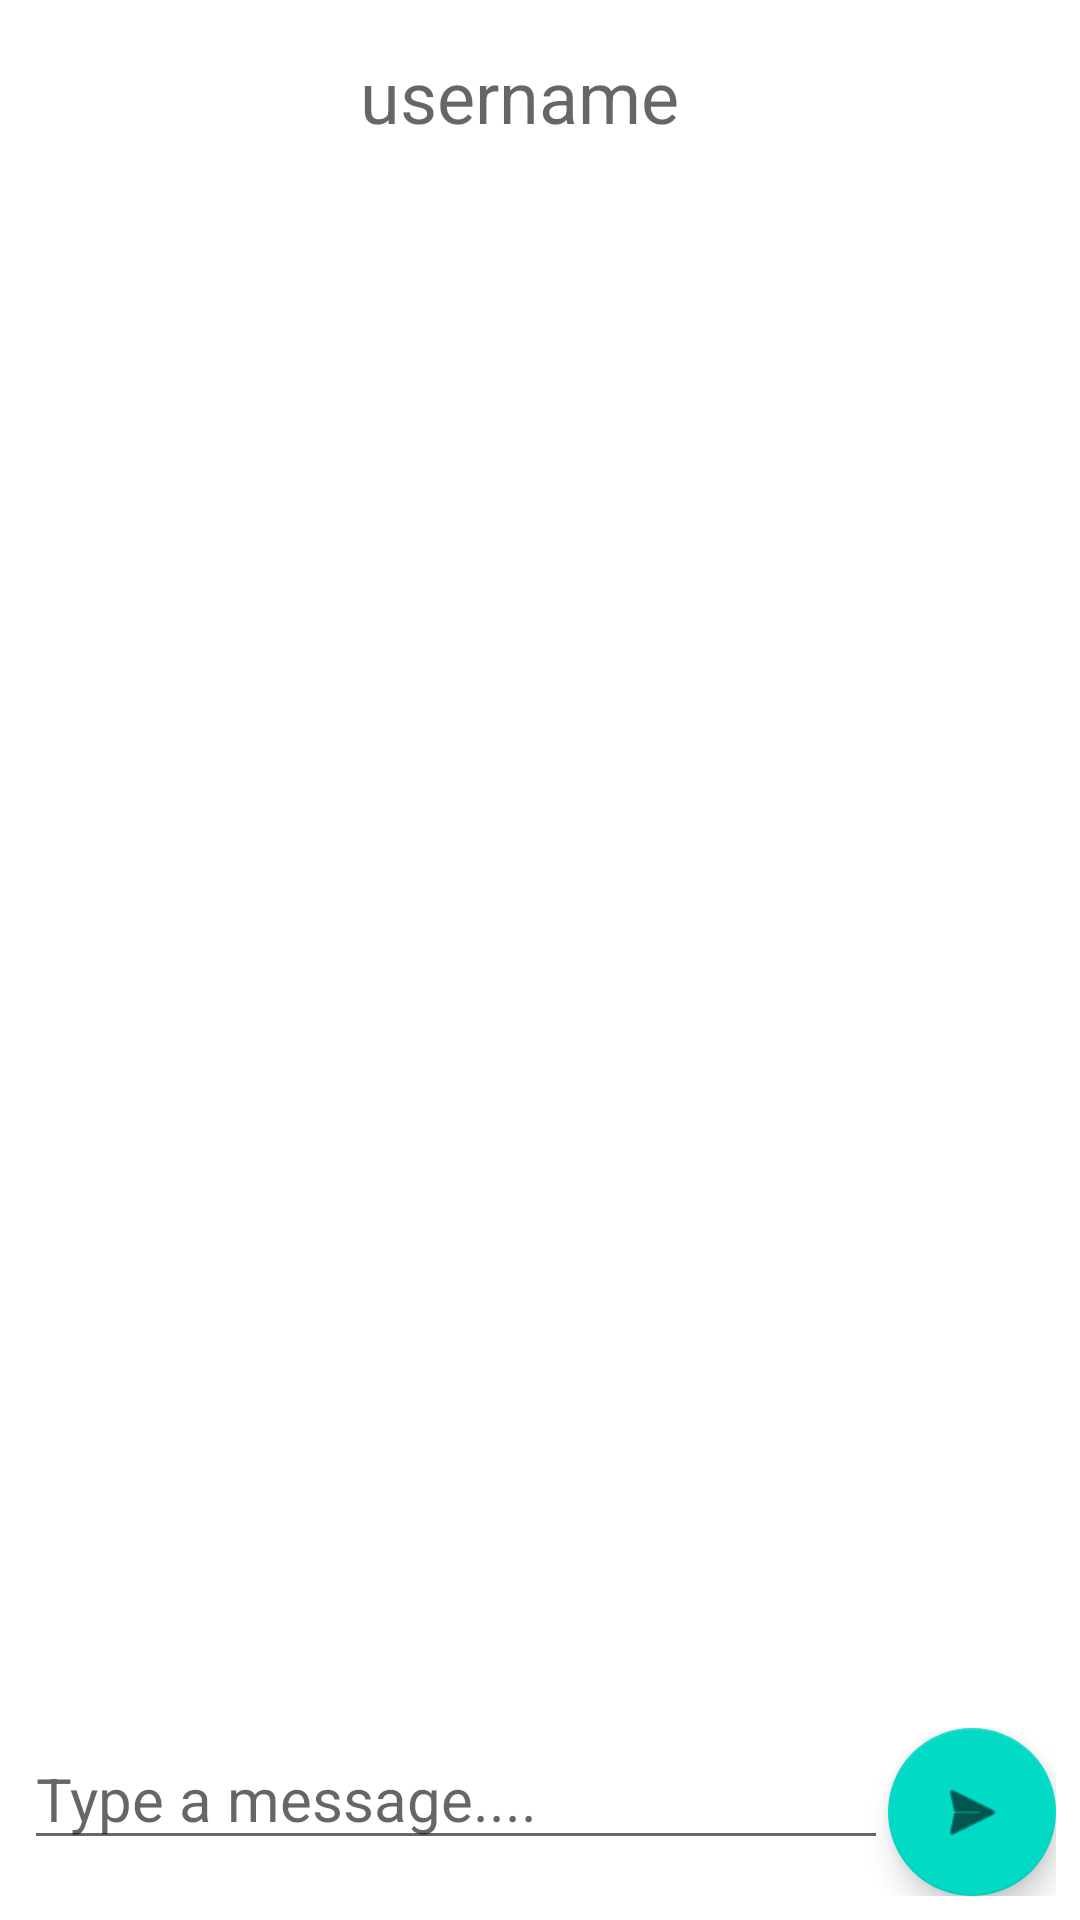

Icons on this 1080px x 1920px Android screen, each with its box as (x1, y1, x2, y2):
send: (888, 1728, 1056, 1896)
